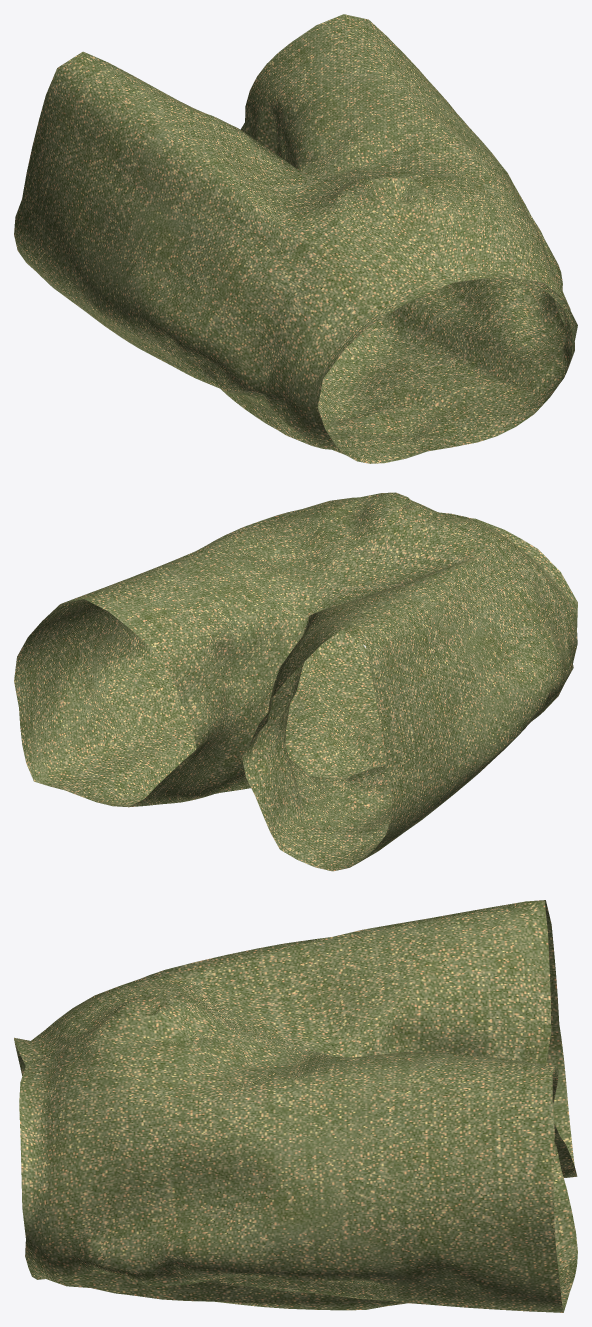
The model's file is shorts.obj.
3 renders of one model, top to bottom at view 1: azimuth 30°, elevation 25°; view 2: azimuth 150°, elevation 25°; view 3: azimuth 270°, elevation 25°, orthographic. The views are drawn at different scales.
Size of the model in its own units: 0.4412 by 0.2954 by 0.4857.
1 material, 1 textured.
